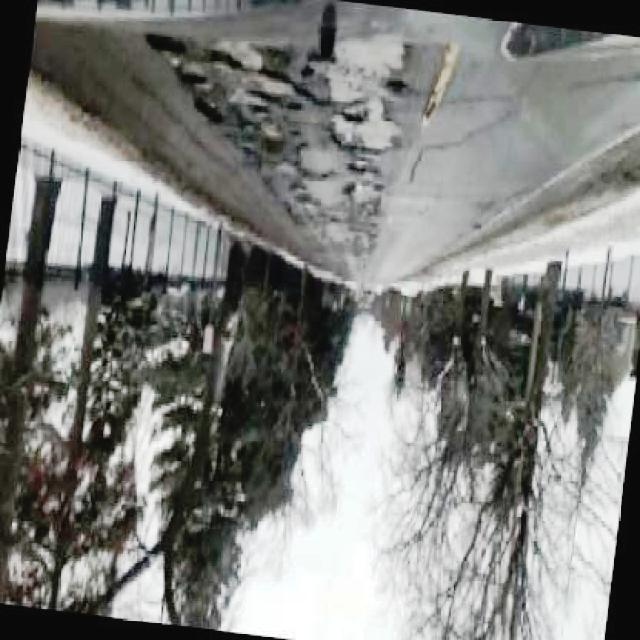pothole: (154, 32, 300, 154), (306, 29, 422, 154), (264, 163, 324, 242), (346, 175, 388, 260)
